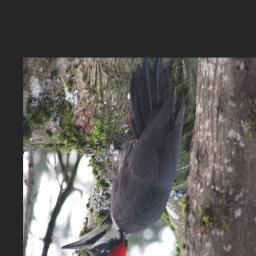Woodpecker: (59, 64, 191, 256)
